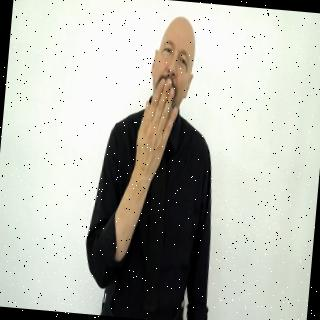ThankYou: (80, 8, 235, 320)
